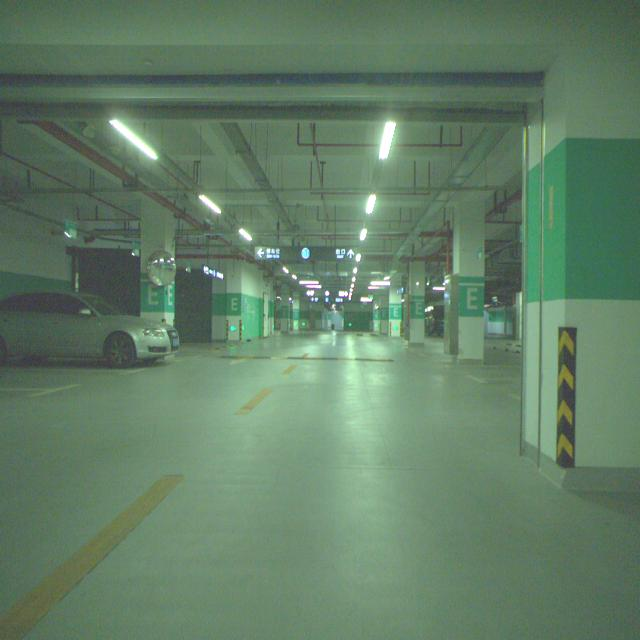pillar: (452, 200, 485, 361), (140, 195, 176, 324)
